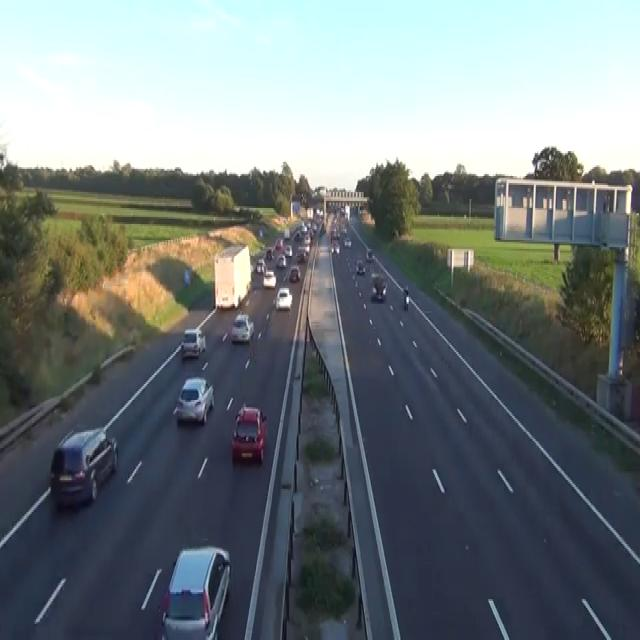Car: (160, 544, 231, 638), (49, 426, 118, 508), (231, 404, 266, 464), (172, 377, 214, 425), (180, 327, 206, 357), (230, 313, 254, 343), (275, 286, 292, 310), (372, 277, 387, 299), (262, 268, 276, 288), (295, 245, 309, 263), (289, 265, 300, 281), (183, 266, 192, 284), (355, 258, 365, 274), (256, 258, 266, 274), (403, 284, 409, 310), (275, 254, 286, 267), (371, 272, 381, 286), (275, 237, 284, 250), (265, 247, 274, 260), (331, 240, 339, 254), (284, 244, 292, 256), (366, 247, 373, 260), (293, 229, 301, 240), (303, 235, 311, 245), (352, 274, 358, 286), (344, 237, 351, 247), (301, 222, 307, 233), (316, 208, 323, 217), (284, 228, 290, 238), (340, 226, 347, 234), (345, 256, 350, 267), (258, 228, 263, 238), (403, 285, 408, 295)
Truck: (213, 242, 251, 308)
